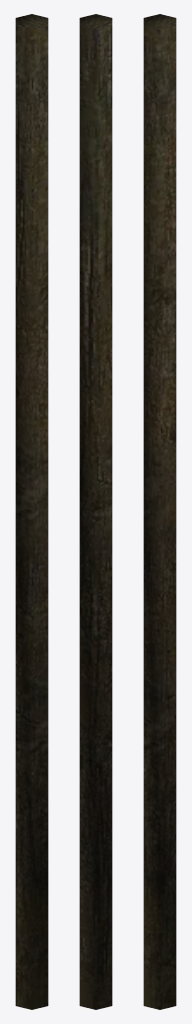
The model's file is KM_VOB_RIBBONPOLE_01.glb.
The picture shows the model from 3 angles, left to right: view 1: azimuth 30°, elevation 25°; view 2: azimuth 150°, elevation 25°; view 3: azimuth 330°, elevation 25°; orthographic projection.
Parts seen in each view (by area): view 1: Mesh; view 2: Mesh; view 3: Mesh.
Part boxes in pixels (x1,y1,x2,y2): Mesh: (15, 14, 48, 1009); Mesh: (79, 14, 112, 1009); Mesh: (143, 14, 176, 1009).
Bounding box in the file's own units: 0.0874 × 2.5 × 0.0757.
Materials: 1 (1 with a texture image).
